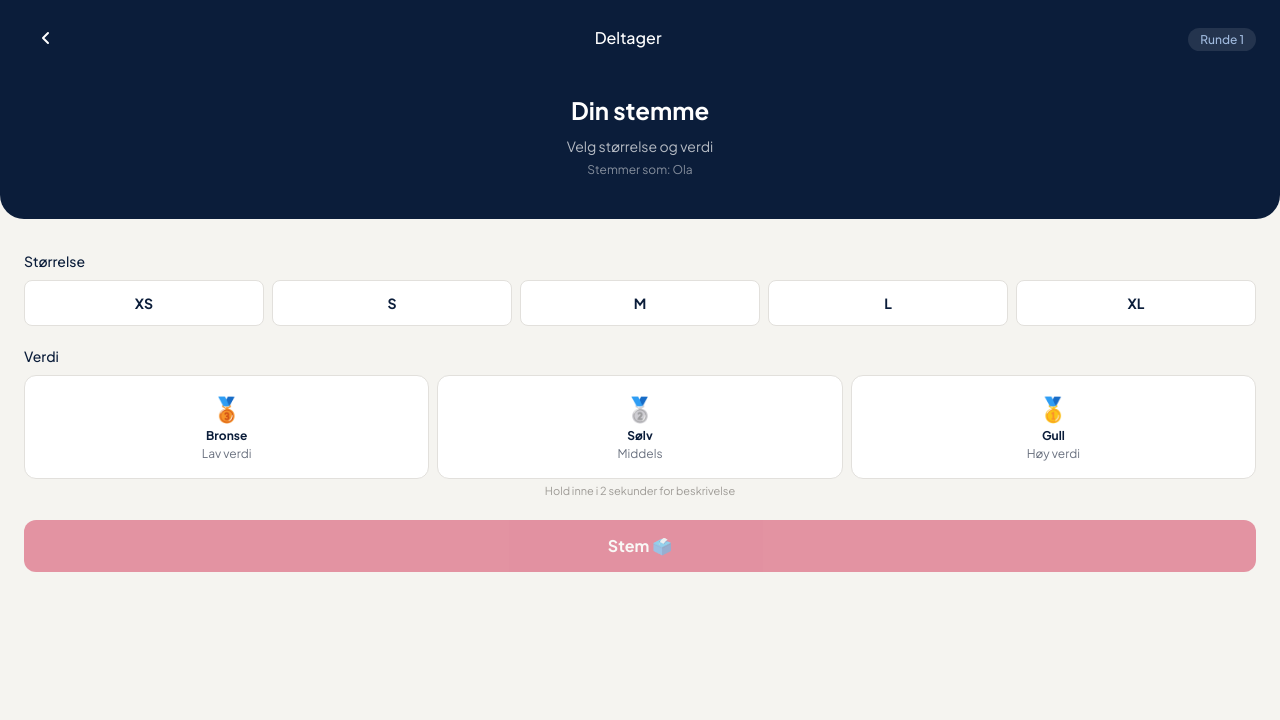
VoteForm › åpner bottom sheet med størrelse-info etter to sekunders long press
Press the mouse on the button with aria-label "størrelse XS": {"x": 144, "y": 303} [24,280,264,326]
Wait 2000 ms
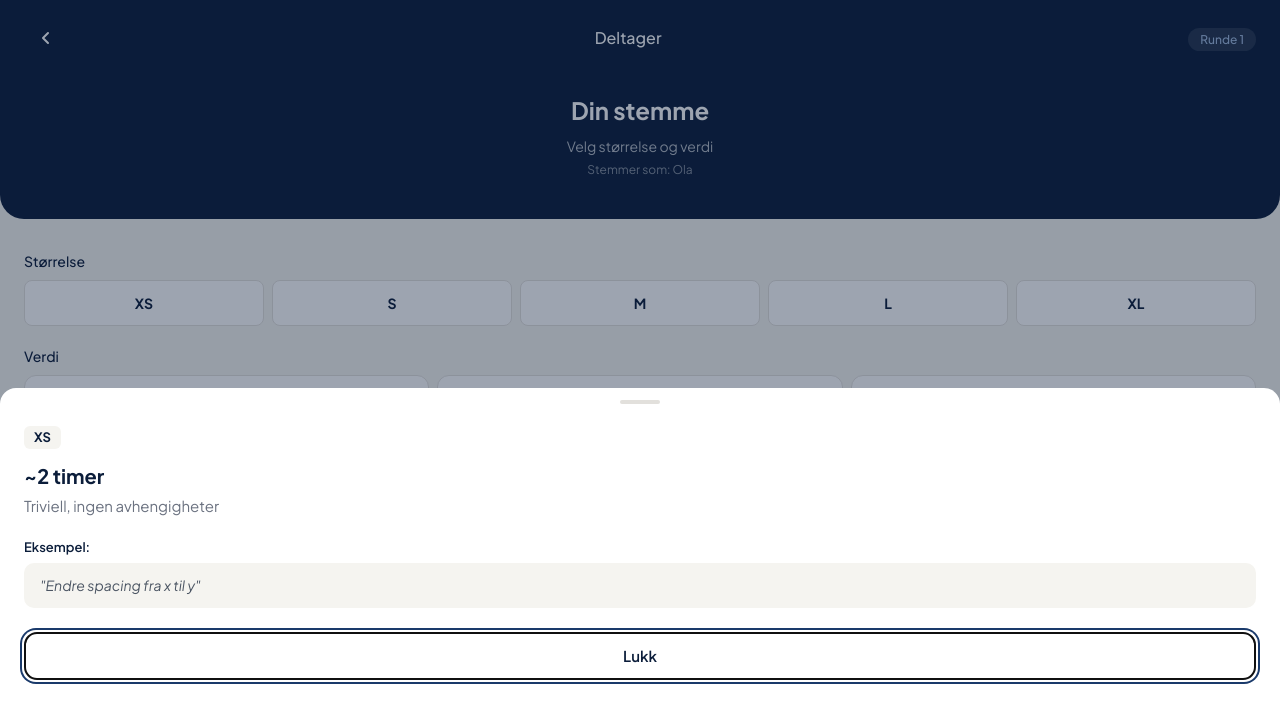
Expected: the dialog is shown, [0,388,1279,719]
Expected: the heading "~2 timer" is shown, [24,463,104,488]
Expected: the text "Triviell, ingen avhengigheter" is shown, [24,496,219,515]
